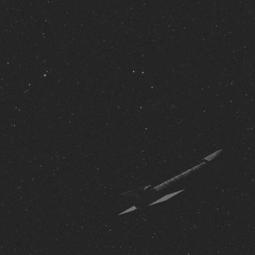xmm_newton: (100, 146, 234, 230)
